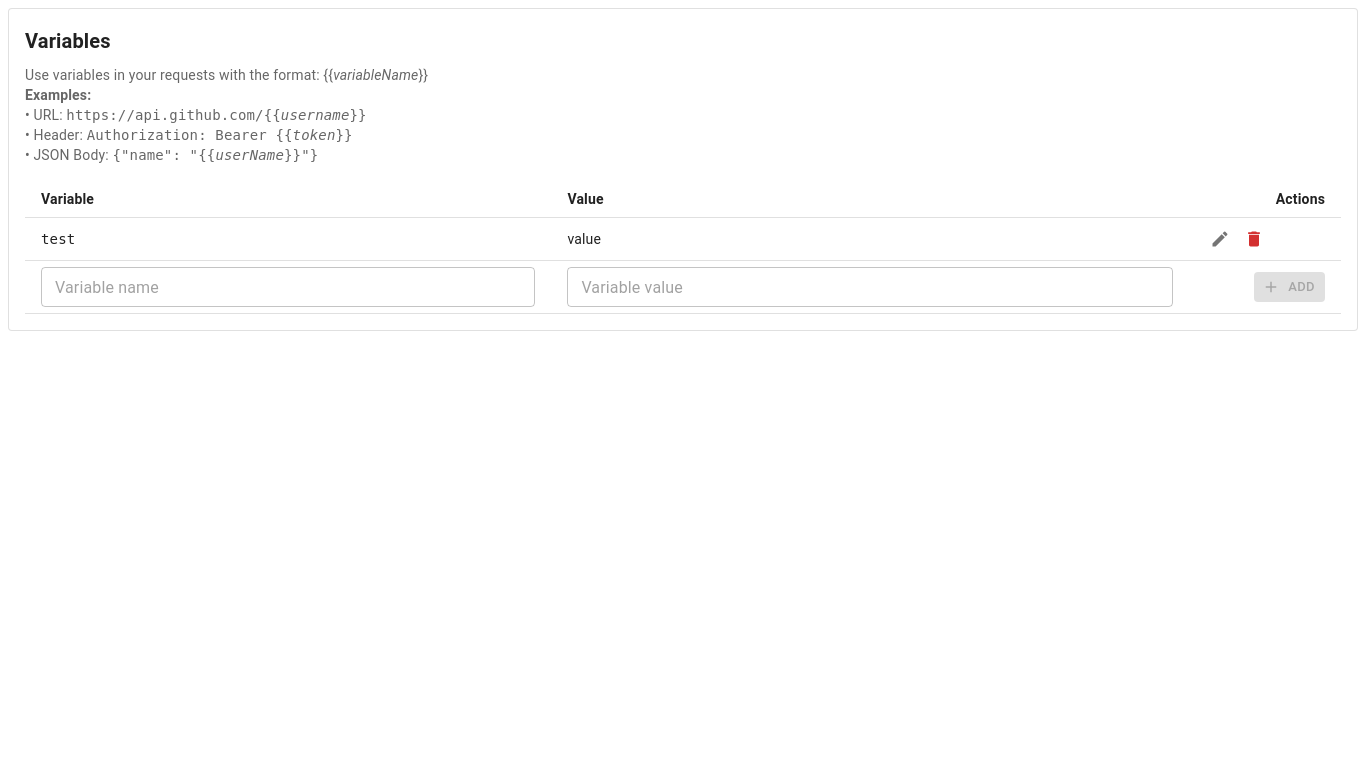
Test: ExistingVariables › should show error snackbar when saving with empty value
The width and height of the screenshot is (1366, 768).
Click the button titled "Edit" at (1220,239), box [1205,224,1235,254]
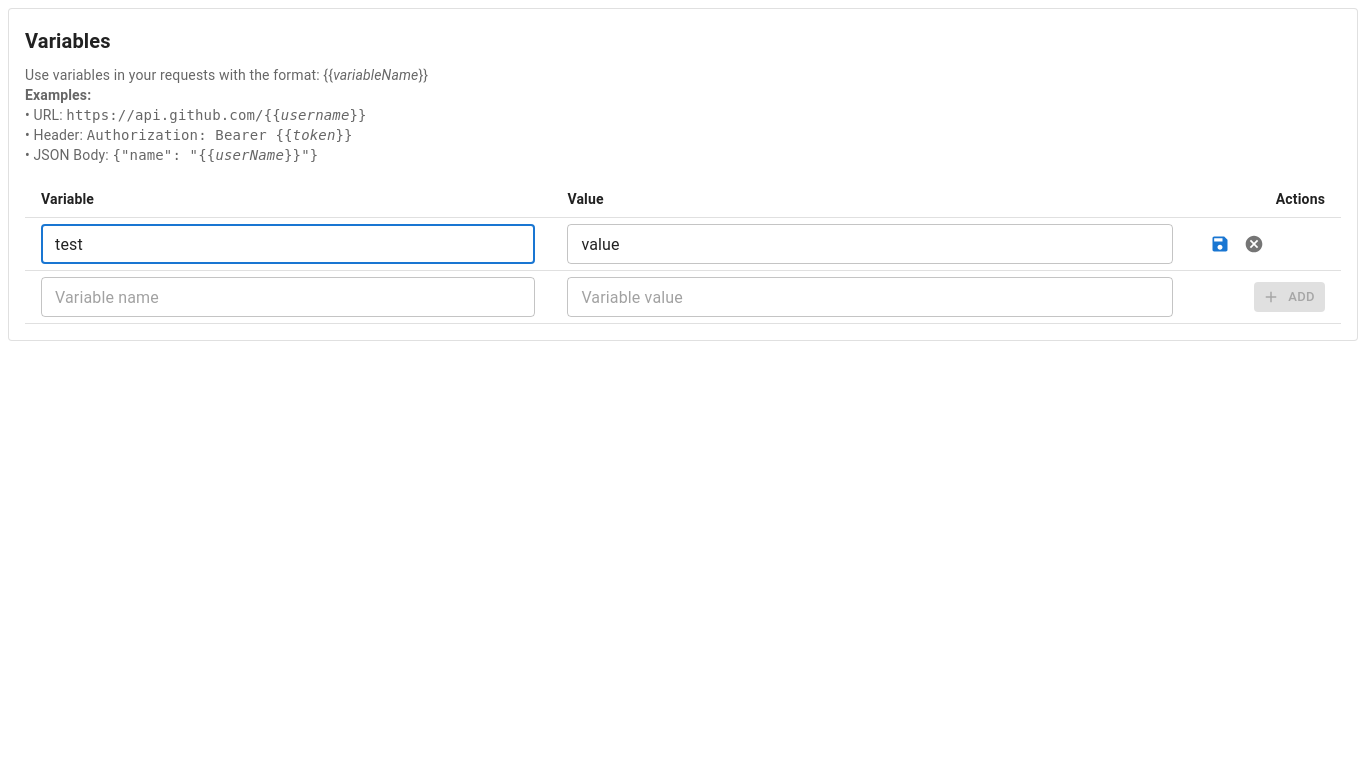
Clear the 2nd field showing "value" at (870,244), box [567,224,1173,264]
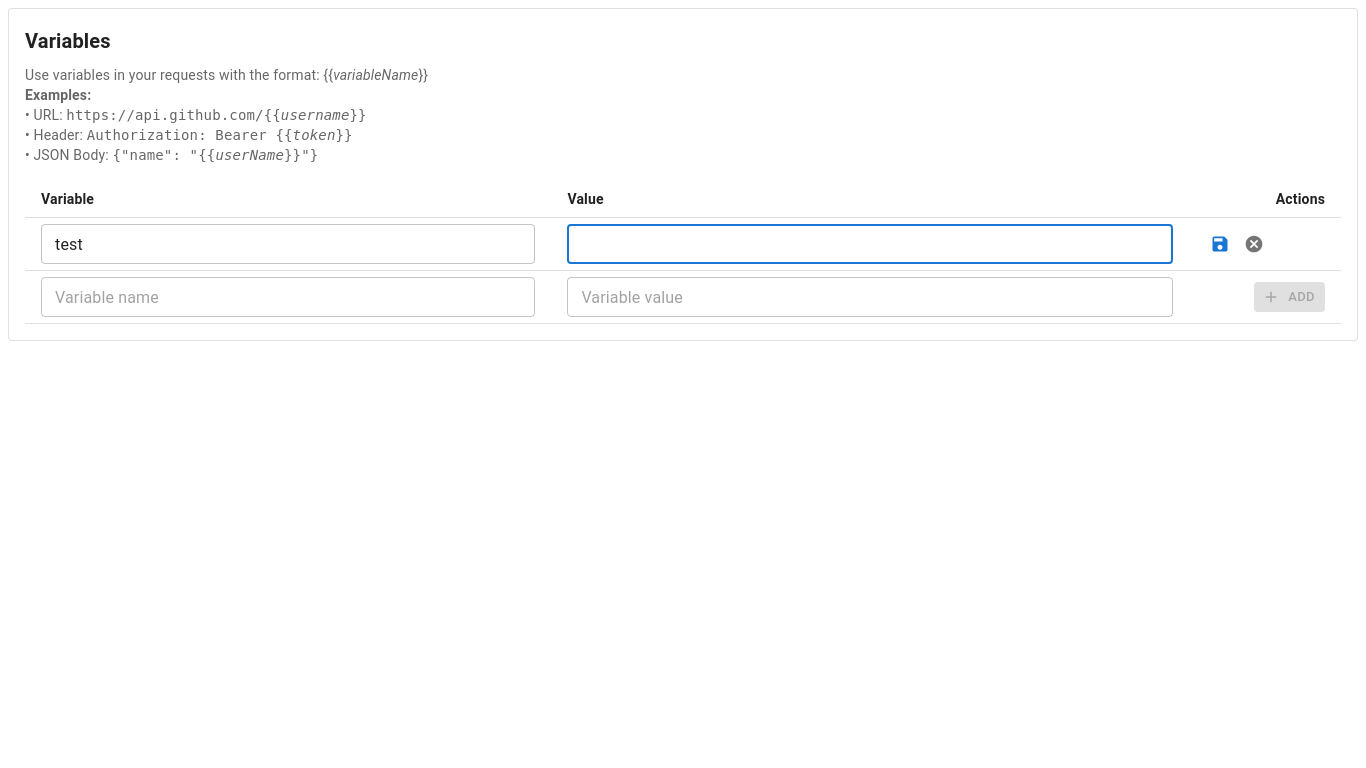
Click the button titled "Save" at (1220,244), box [1205,229,1235,259]
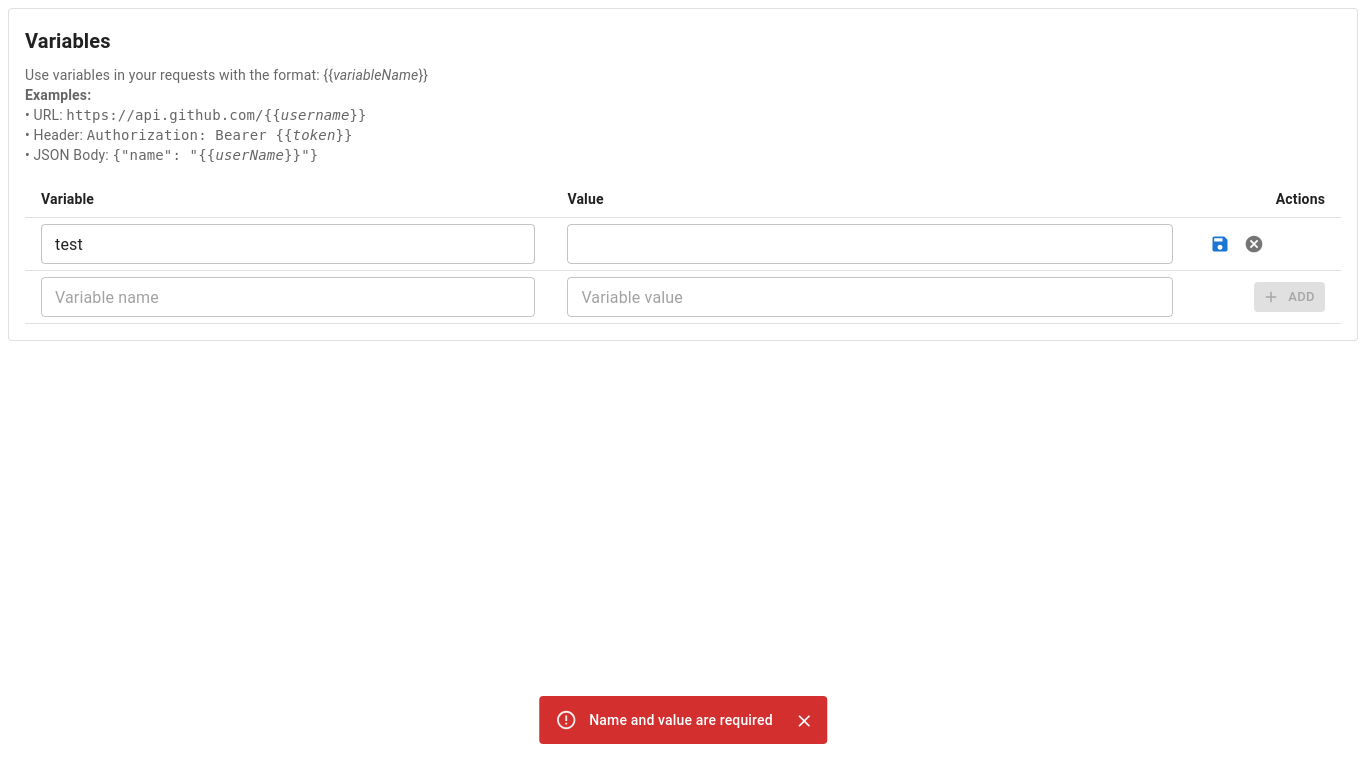
Check: the text "Name and value are required" is shown, box [589,712,773,728]
